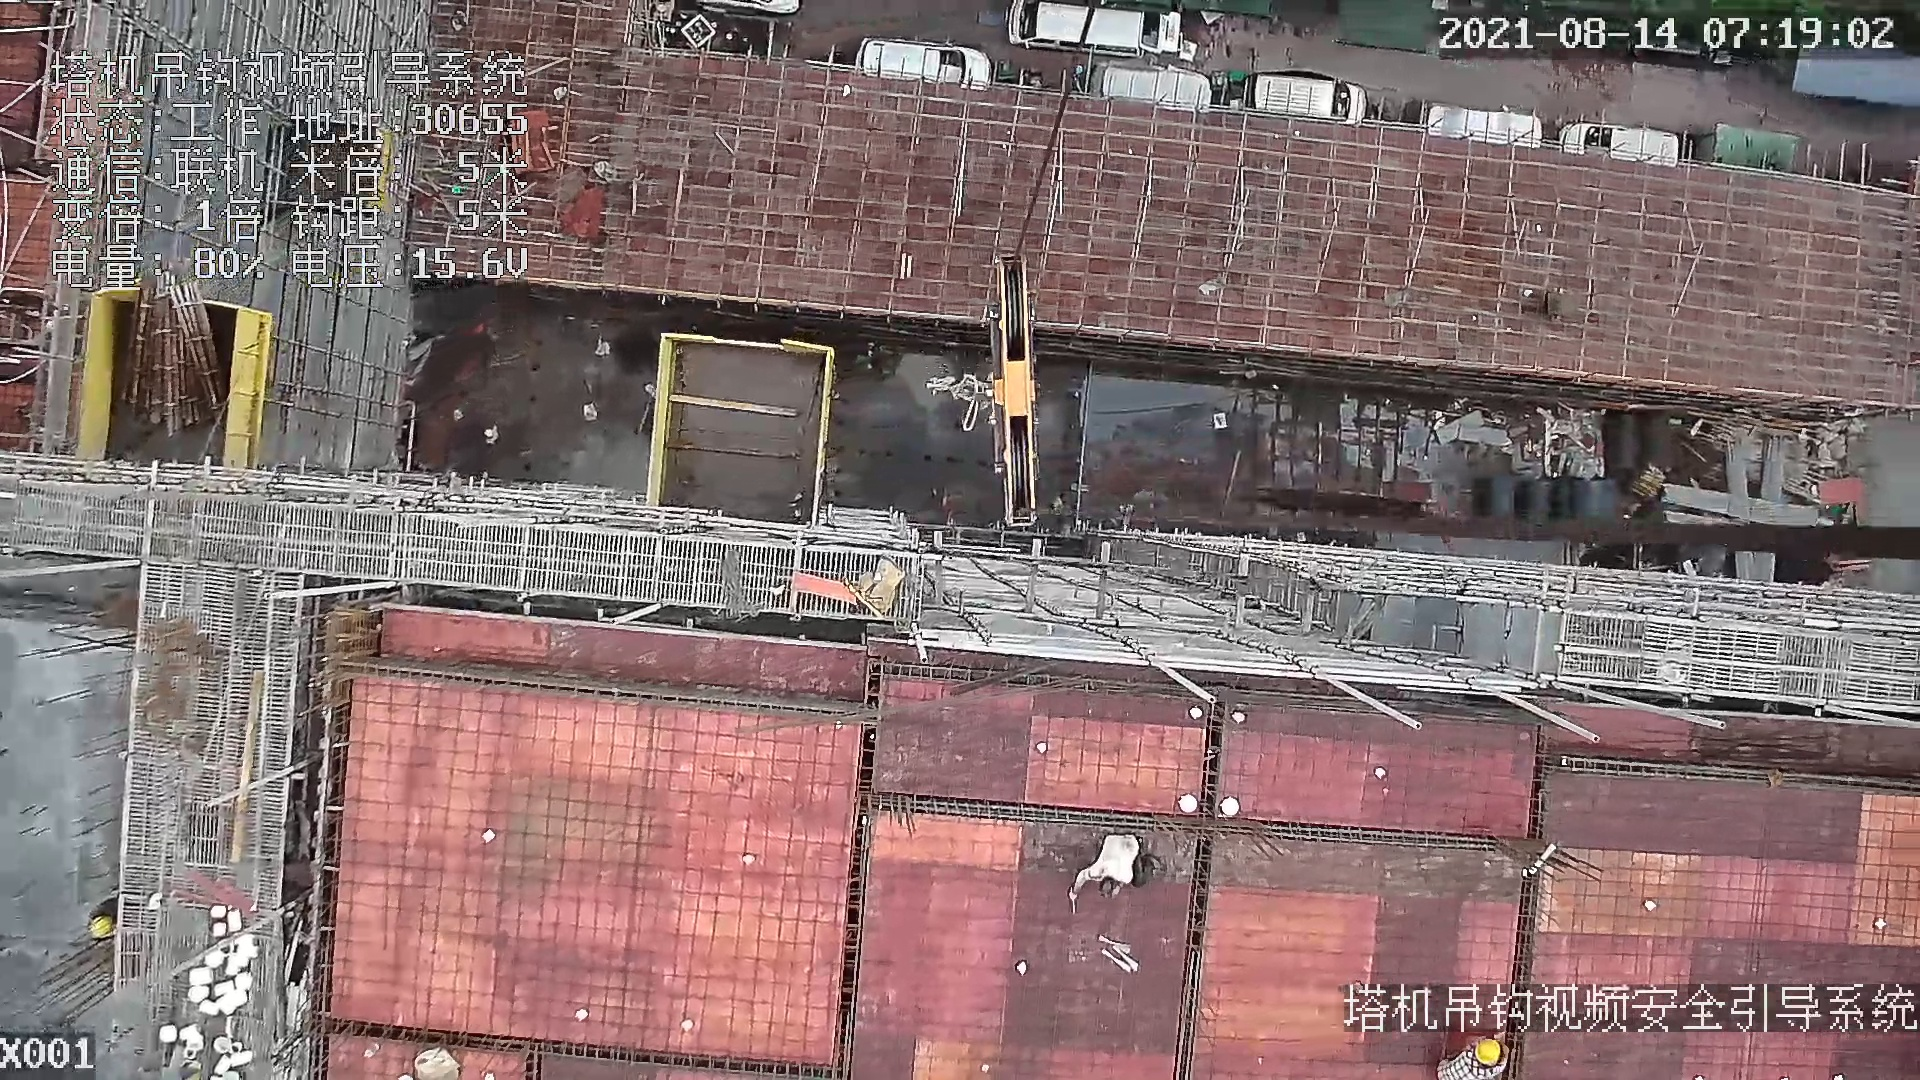helmet: (1469, 1037, 1506, 1067)
hook: (973, 250, 1051, 527)
person: (1069, 835, 1145, 903), (1433, 1026, 1519, 1080)
